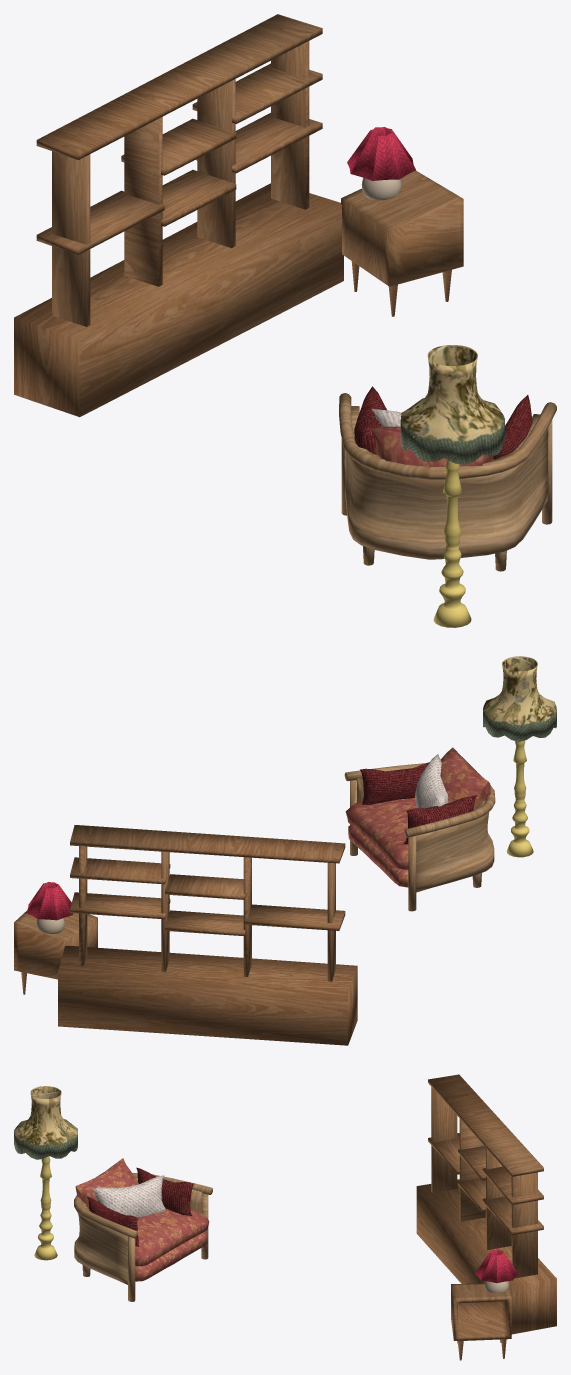
The model's file is mesh_80_room_2.glb.
3 renders of one model, top to bottom at view 1: azimuth 30°, elevation 25°; view 2: azimuth 150°, elevation 25°; view 3: azimuth 270°, elevation 25°, orthographic. The views are drawn at different scales.
Visible parts, largest first — view 1: mesh_80_room_2; view 2: mesh_80_room_2; view 3: mesh_80_room_2.
Part boxes in pixels (x1,y1,x2,y2): mesh_80_room_2: [14, 14, 556, 627]; mesh_80_room_2: [14, 656, 556, 1045]; mesh_80_room_2: [14, 1074, 556, 1360].
Bounding box in the file's own units: 2.71 × 1.6 × 4.69.
Materials: 1 (1 with a texture image).
